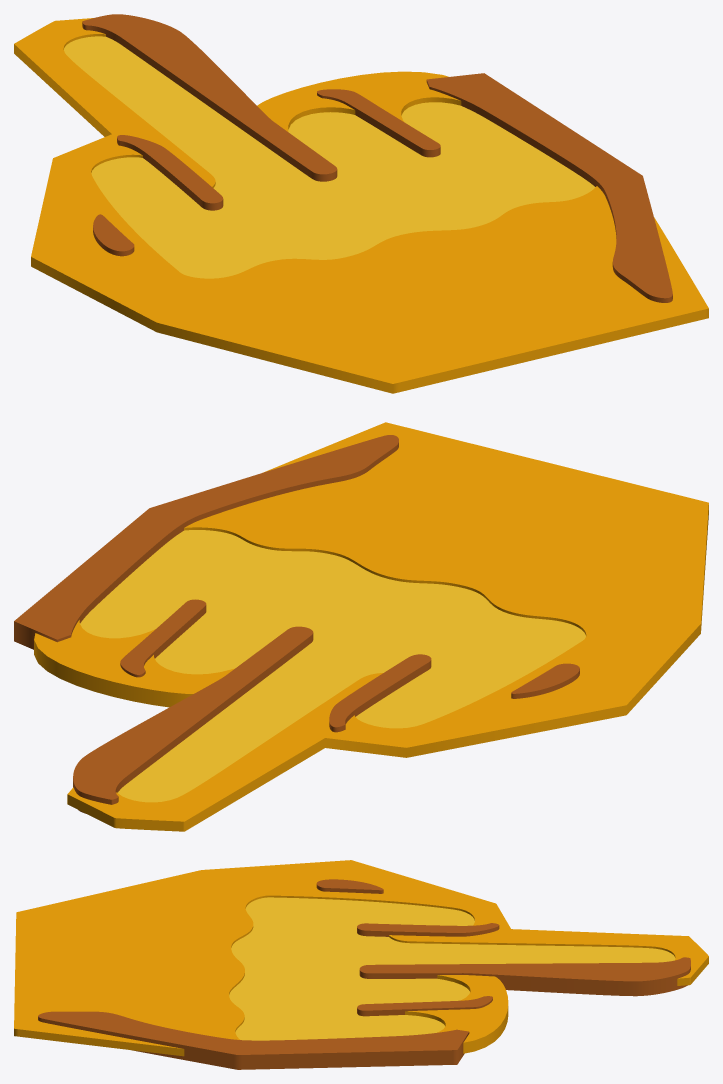
File: emoji_u1f595.glb
The picture shows the model from 3 angles, top to bottom: view 1: azimuth 30°, elevation 25°; view 2: azimuth 150°, elevation 25°; view 3: azimuth 270°, elevation 25°; orthographic projection. The views are drawn at different scales.
Parts seen in each view (by area): view 1: emoji_u1f595; view 2: emoji_u1f595; view 3: emoji_u1f595.
Boxes of the visible parts, box(x1,y1,x2,y2) form: emoji_u1f595: box(14, 14, 708, 393); emoji_u1f595: box(14, 422, 708, 831); emoji_u1f595: box(14, 860, 708, 1069).
Bounding box in the file's own units: 0.0231 × 0.0008 × 0.0341.
